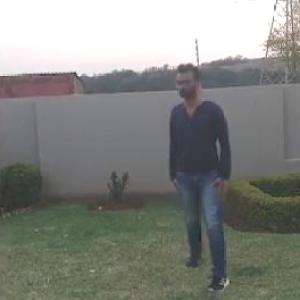follow: (170, 52, 238, 292)
